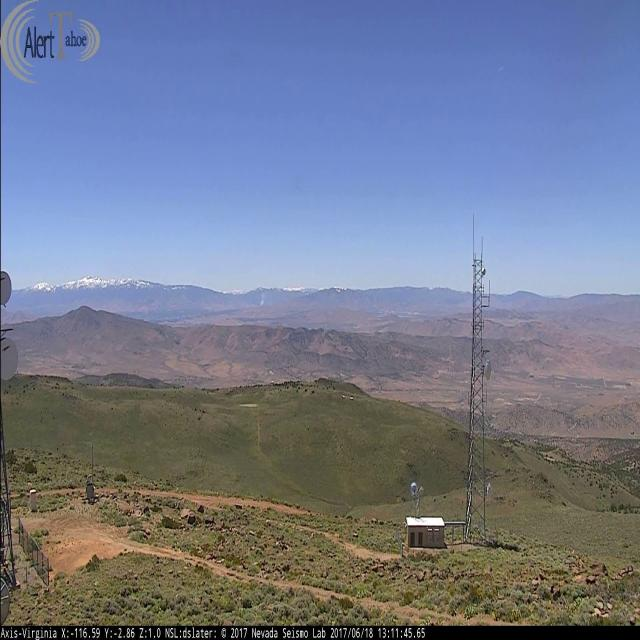smoke: (260, 292, 272, 306)
